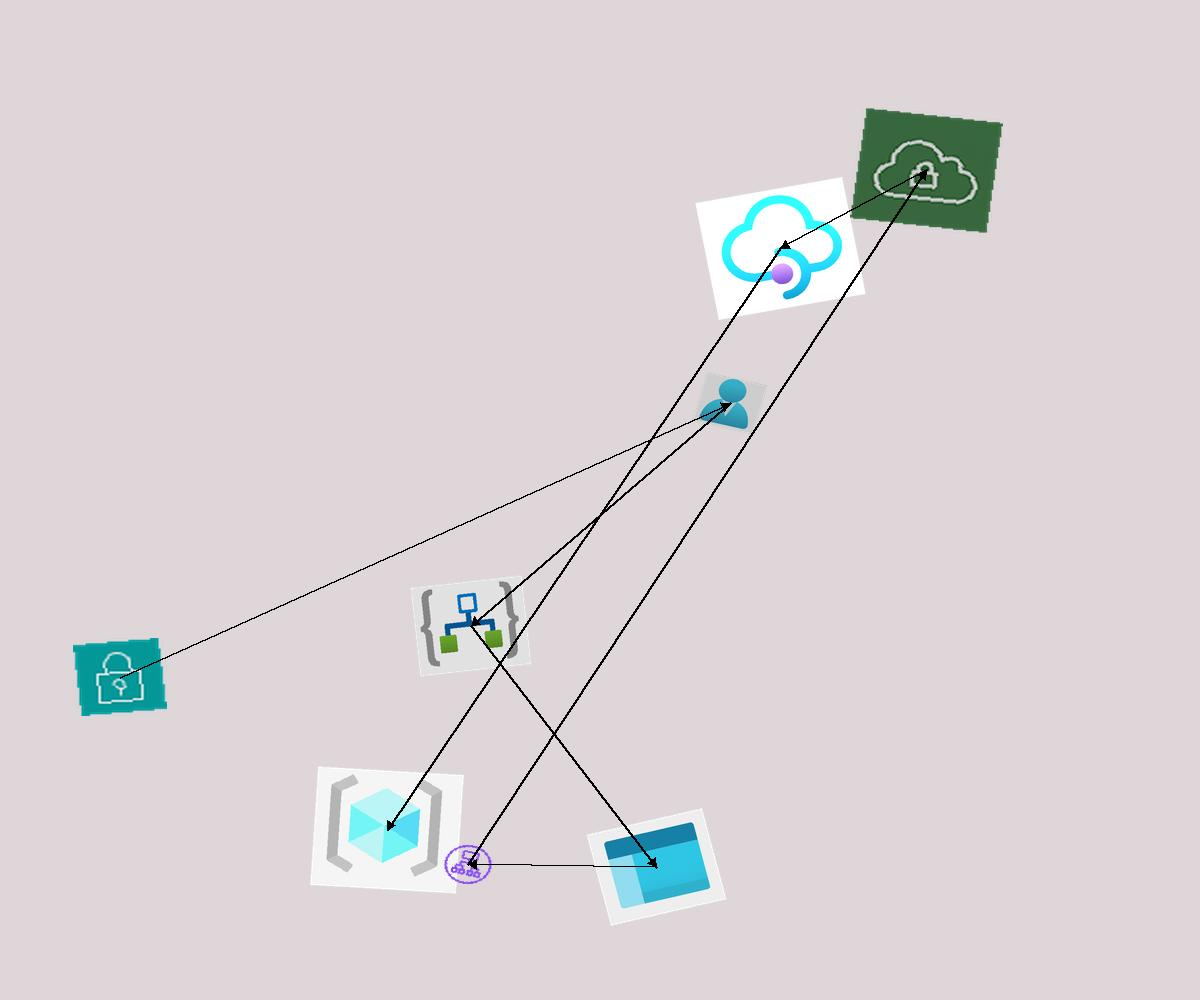AWS-Private-subnet: (73, 638, 167, 716)
AWS-Private_vpc: (850, 107, 1003, 234)
AWS-Res_Elastic-Load-Balancing_Application-Load-Balancer: (436, 838, 500, 891)
Azure_api_gateway: (695, 177, 866, 320)
Azure_integration-204-Logic-Apps: (410, 575, 532, 677)
Azure_management-portal: (586, 808, 727, 926)
Azure_resource_group: (310, 766, 464, 894)
Azure_users: (692, 372, 768, 435)
